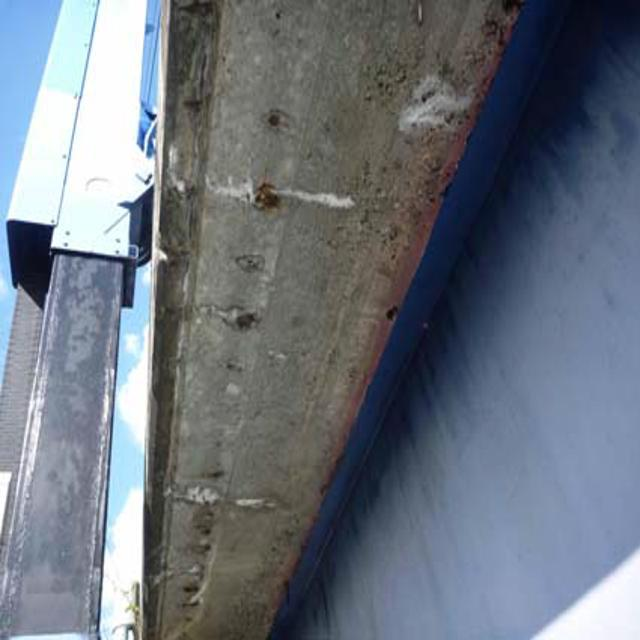freelime: (214, 166, 354, 227), (166, 476, 284, 514), (403, 79, 484, 130), (194, 298, 283, 342)
